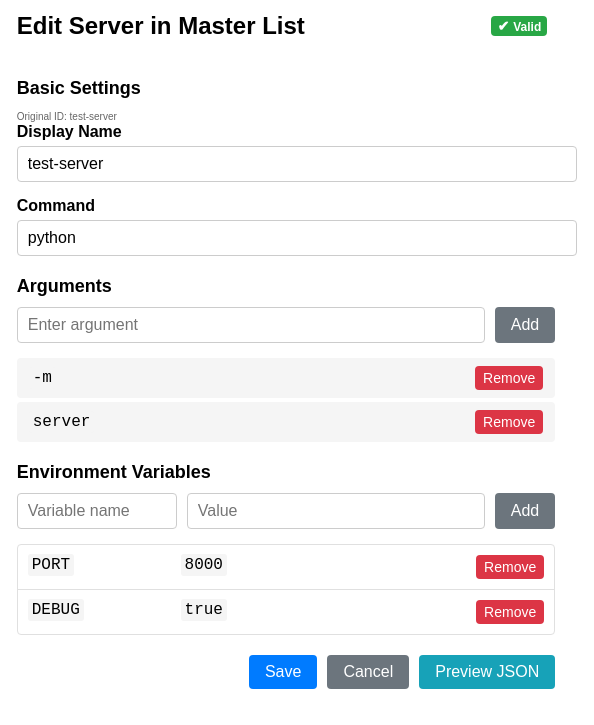
Test: MasterServerForm › shows warning for unsafe command
# Change the command field to include unsafe characters
Replace the text in the field labelled "Command" with "python; rm -rf /" at coordinates (297, 238), box [17, 220, 577, 256]
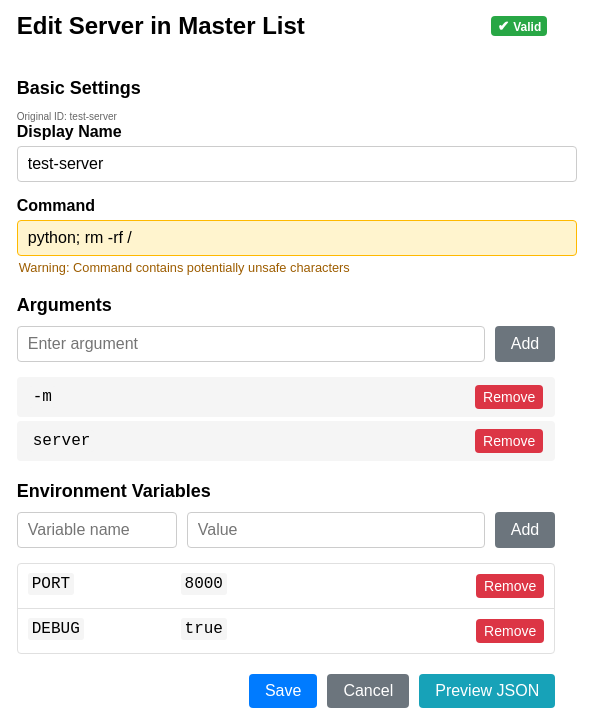
Check: the text "Warning: Command contains potentially unsafe characters" is shown, box [19, 260, 350, 275]
